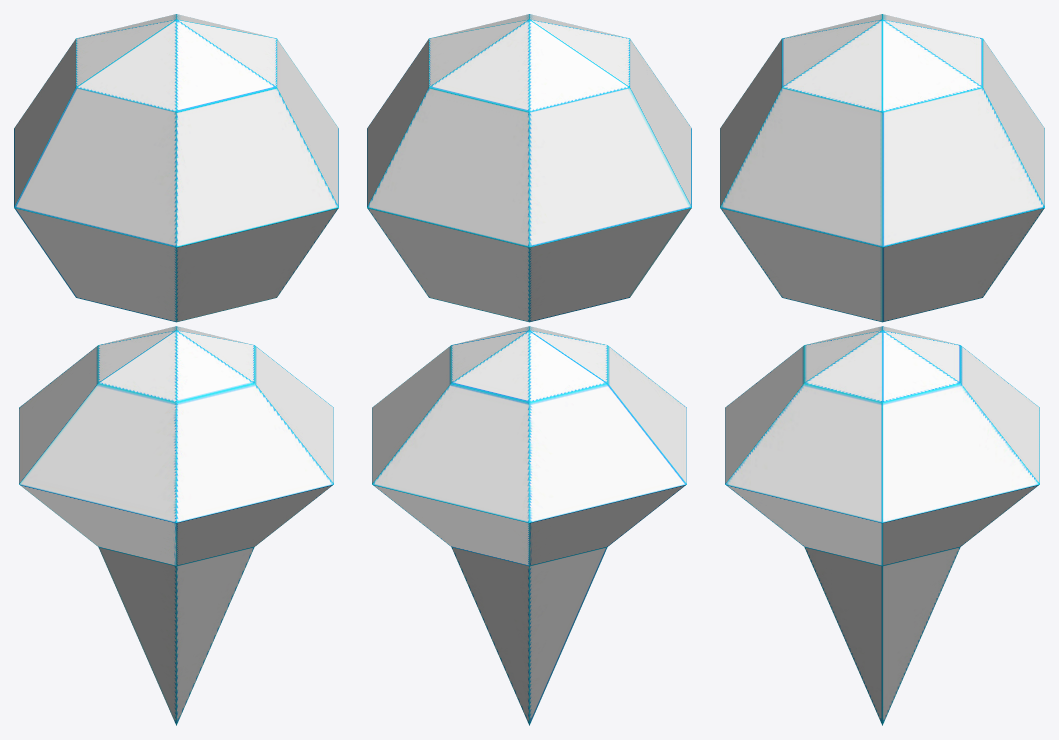
File: enemy_01.fbx
3 renders of one model, left to right at view 1: azimuth 30°, elevation 25°; view 2: azimuth 150°, elevation 25°; view 3: azimuth 270°, elevation 25°, orthographic.
Parts seen in each view (by area): view 1: pSphere4; view 2: pSphere4; view 3: pSphere4.
Part boxes in pixels (x1,y1,x2,y2): pSphere4: (14, 14, 338, 725); pSphere4: (367, 14, 691, 725); pSphere4: (720, 14, 1044, 725).
Size of the model in its own units: 152 by 315 by 131.
